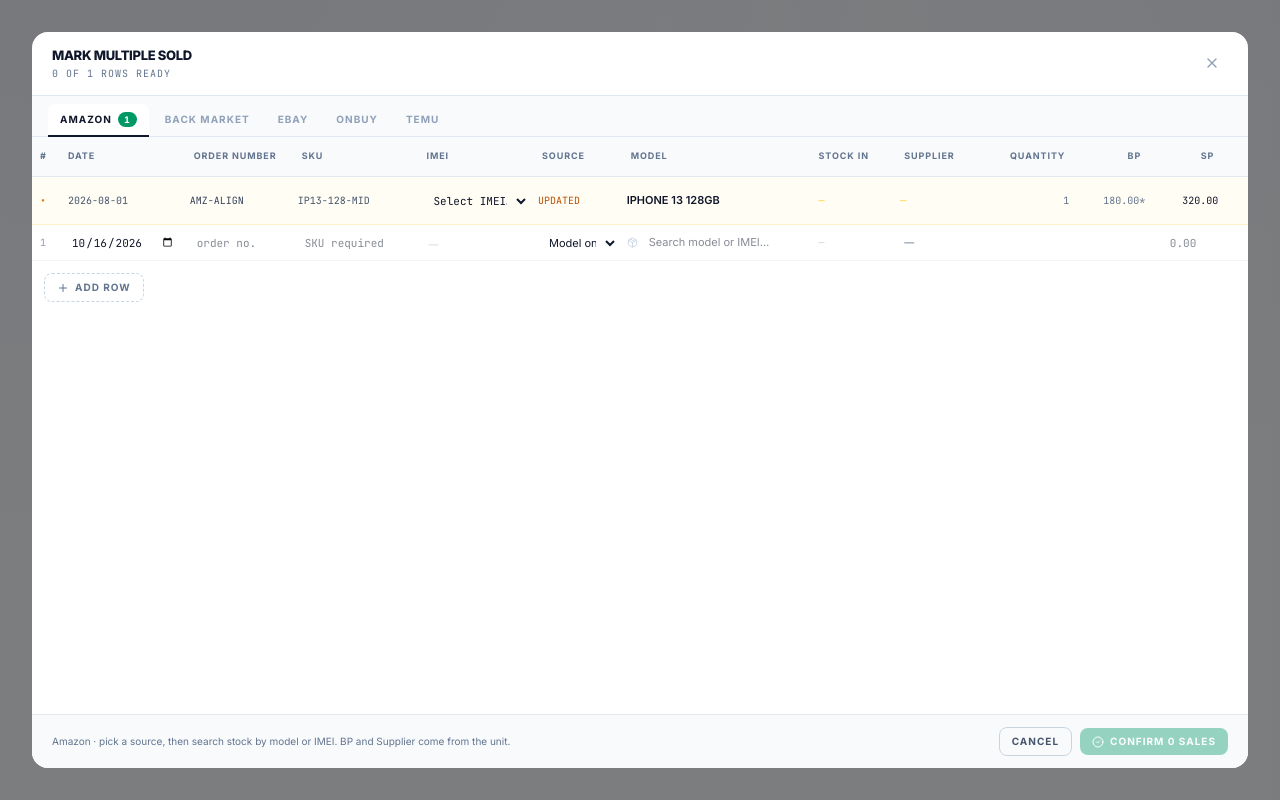
it: the sale date is the operator's, and it leads the row › lines a waiting row's cells up under their own headers
Step 1. Select "350000000000001 · MIDNIGHT · £200.00" in the dropdown named "IMEI for AMZ-ALIGN" → (476, 200), box [422,188,530,214]
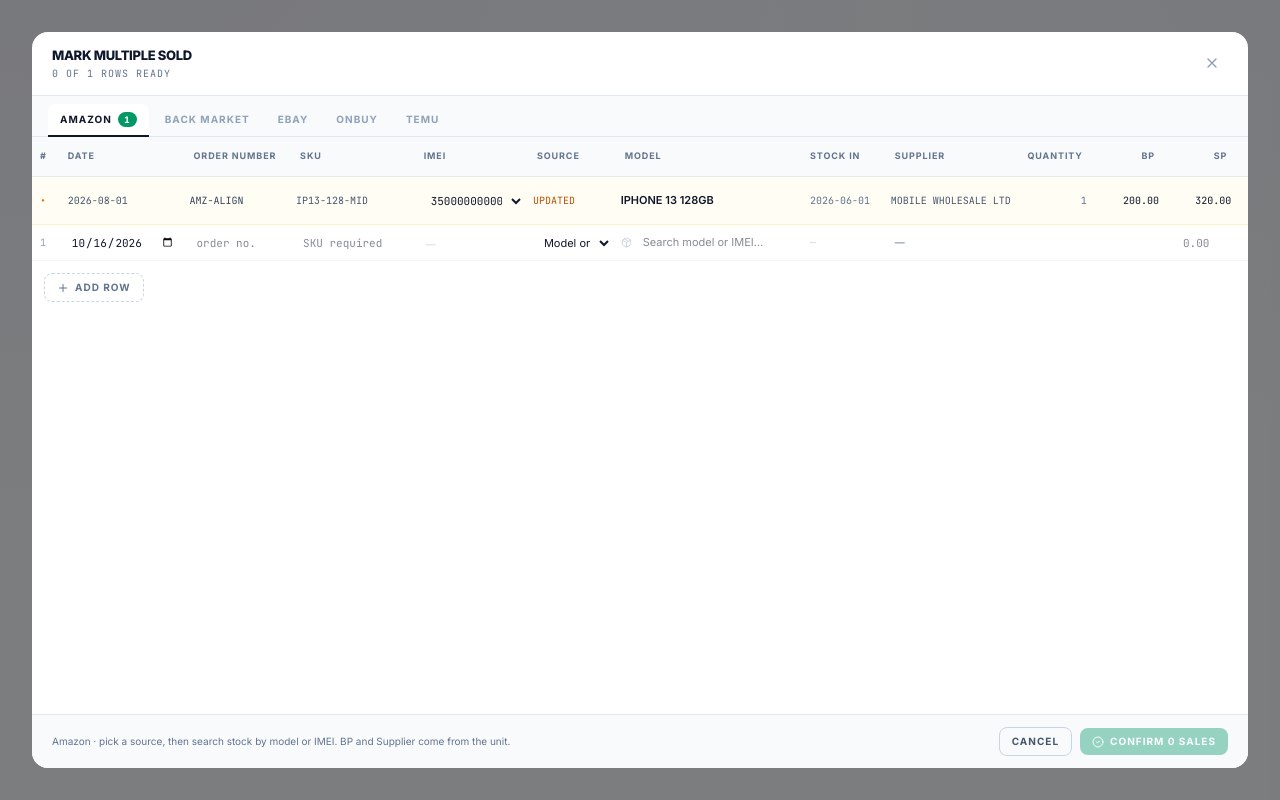
Expected: the cell "AMZ-ALIGN" is shown, [186,176,292,224]
Expected: the cell "MOBILE WHOLESALE LTD" is shown, [887,176,1015,224]
